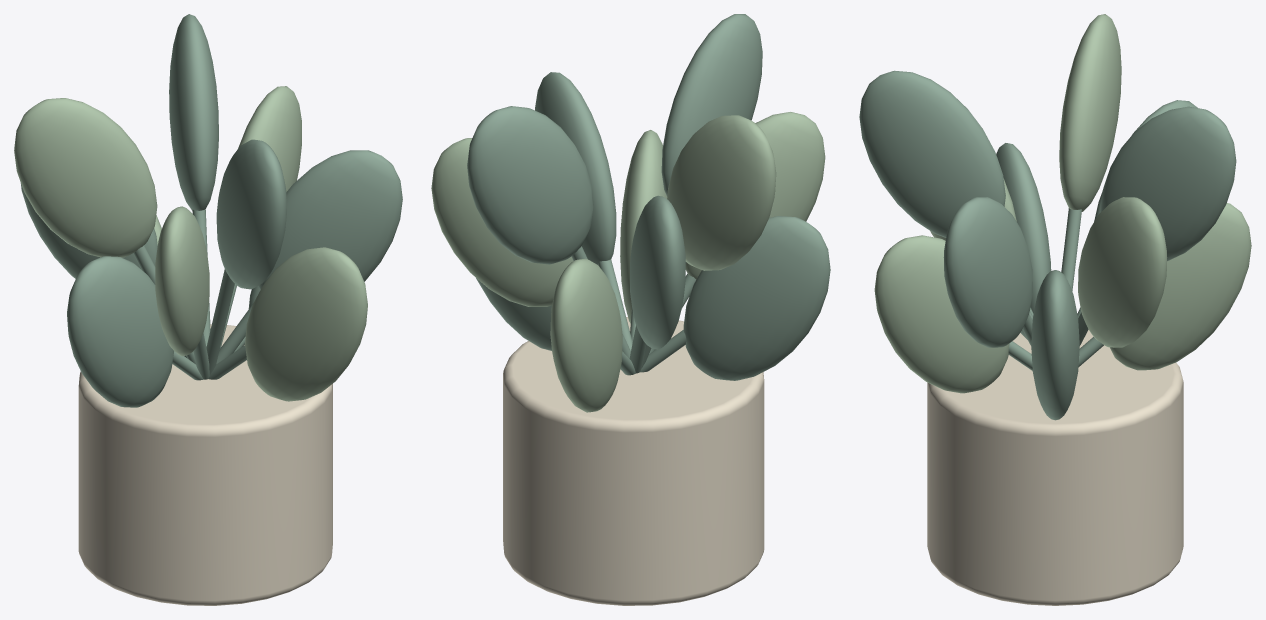
The model's file is bigplant.glb.
3 views of the same model, side by side, from view 1: azimuth 30°, elevation 25°; view 2: azimuth 150°, elevation 25°; view 3: azimuth 270°, elevation 25° (orthographic). The views are drawn at different scales.
Parts seen in each view (by area): view 1: bigplant Pot, bigplant Leaf.005, bigplant Leaf.009, bigplant Leaf.006, bigplant Leaf.010, bigplant Leaf.008, bigplant Leaf.002, bigplant Leaf.007, bigplant Leaf.001, bigplant Leaf.004, bigplant Stem.008, bigplant Stem.010 (+1 smaller); view 2: bigplant Pot, bigplant Leaf.006, bigplant Leaf.002, bigplant Leaf.005, bigplant Leaf.003, bigplant Leaf.008, bigplant Leaf.001, bigplant Leaf.004, bigplant Leaf.010, bigplant Leaf.007, bigplant Leaf.009, bigplant Leaf (+2 smaller); view 3: bigplant Pot, bigplant Leaf.008, bigplant Leaf.002, bigplant Leaf.009, bigplant Leaf.001, bigplant Leaf.010, bigplant Leaf.003, bigplant Leaf.005, bigplant Leaf, bigplant Leaf.006, bigplant Stem.005.
Boxes of the visible parts, x1,y1,x2,y2 form: bigplant Pot: (78, 324, 332, 605); bigplant Leaf.005: (14, 98, 157, 257); bigplant Leaf.009: (245, 247, 367, 401); bigplant Leaf.006: (67, 256, 173, 407); bigplant Leaf.010: (258, 150, 402, 289); bigplant Leaf.008: (216, 139, 286, 289); bigplant Leaf.002: (169, 14, 218, 210); bigplant Leaf.007: (155, 206, 209, 356); bigplant Leaf.001: (238, 86, 301, 191); bigplant Leaf.004: (20, 183, 157, 278); bigplant Stem.008: (206, 269, 234, 375); bigplant Stem.010: (216, 303, 253, 363); bigplant Pot: (503, 317, 764, 605); bigplant Leaf.006: (683, 216, 830, 380); bigplant Leaf.002: (467, 106, 593, 264); bigplant Leaf.005: (667, 115, 776, 270); bigplant Leaf.003: (550, 258, 622, 412); bigplant Leaf.008: (661, 14, 762, 196); bigplant Leaf.001: (431, 138, 573, 306); bigplant Leaf.004: (630, 195, 685, 349); bigplant Leaf.010: (535, 72, 616, 265); bigplant Leaf.007: (685, 112, 825, 279); bigplant Leaf.009: (620, 130, 667, 323); bigplant Leaf: (476, 278, 551, 350); bigplant Pot: (927, 329, 1183, 605); bigplant Leaf.008: (859, 70, 1005, 237); bigplant Leaf.002: (1100, 106, 1236, 261); bigplant Leaf.009: (874, 235, 1009, 393); bigplant Leaf.001: (1078, 197, 1167, 347); bigplant Leaf.010: (943, 197, 1032, 347); bigplant Leaf.003: (1110, 203, 1251, 370); bigplant Leaf.005: (1059, 14, 1121, 211); bigplant Leaf: (1031, 270, 1079, 420); bigplant Leaf.006: (996, 143, 1051, 339); bigplant Stem.005: (1061, 208, 1081, 290).
Bounding box in the file's own units: 0.2878 × 0.3876 × 0.2907.
